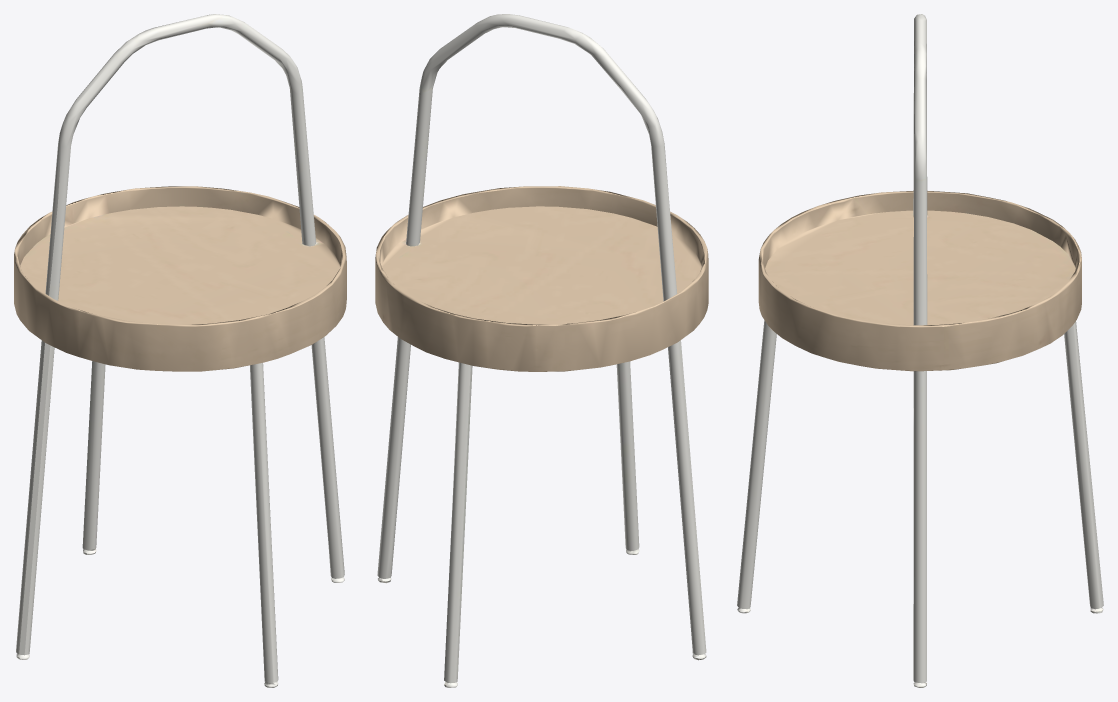
Rendered from 17 - BURVIK - 邊桌，白色，38 公分 IKEA 線上購物.glb.
The picture shows the model from 3 angles, left to right: view 1: azimuth 30°, elevation 25°; view 2: azimuth 150°, elevation 25°; view 3: azimuth 270°, elevation 25°; orthographic projection. The views are drawn at different scales.
Parts seen in each view (by area): view 1: ProcessedMeshNode; view 2: ProcessedMeshNode; view 3: ProcessedMeshNode.
Part boxes in pixels (x1=…): ProcessedMeshNode: x1=14, y1=14, x2=346, y2=687; ProcessedMeshNode: x1=375, y1=14, x2=708, y2=687; ProcessedMeshNode: x1=737, y1=14, x2=1103, y2=687.
Bounding box in the file's own units: 0.4444 × 0.7762 × 0.4449.
1 material, 1 textured.
